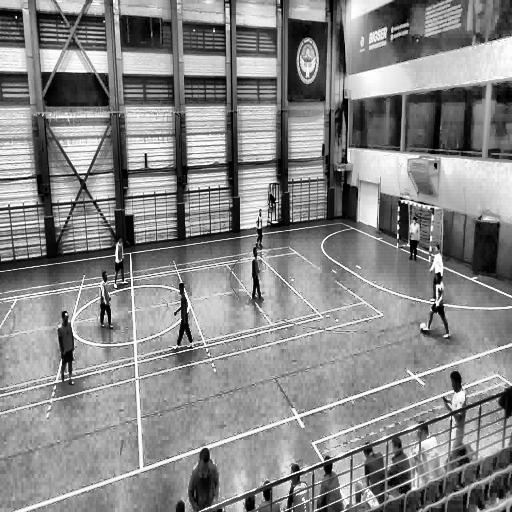ball: (419, 319, 428, 338)
player: (421, 260, 450, 336), (444, 371, 467, 448), (175, 279, 195, 348), (58, 310, 75, 384), (429, 245, 446, 305), (99, 270, 112, 330), (251, 246, 263, 301), (114, 236, 126, 286), (409, 216, 420, 262), (255, 208, 264, 248)
